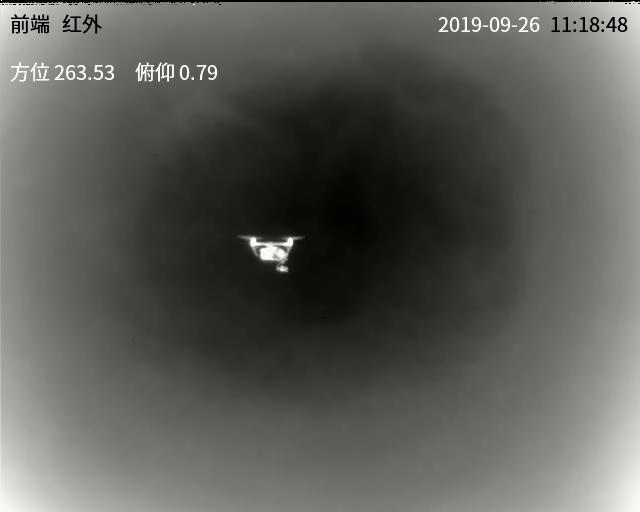uav: (234, 233, 307, 286)
